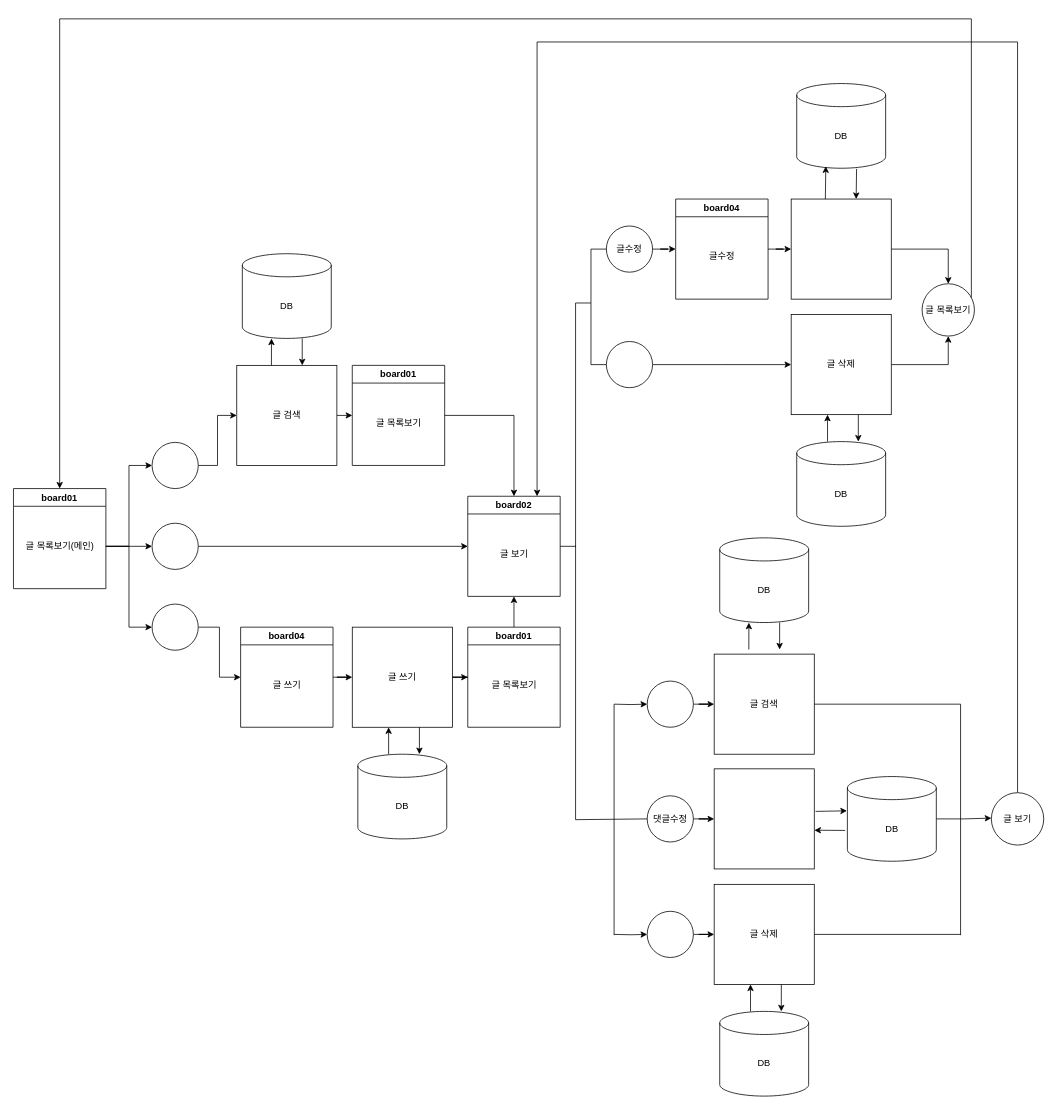
Image size: 1057x1110. Some labels were removed from this diagram. Each missing label, with the centre of its shape:
글 수정: point (840, 248)
글검색/ 필터: point (174, 465)
글삭제: point (629, 364)
글선택: point (174, 545)
글쓰기: point (174, 626)
댓글 수정: point (763, 818)
댓글삭제: point (669, 934)
댓글쓰기: point (669, 703)
